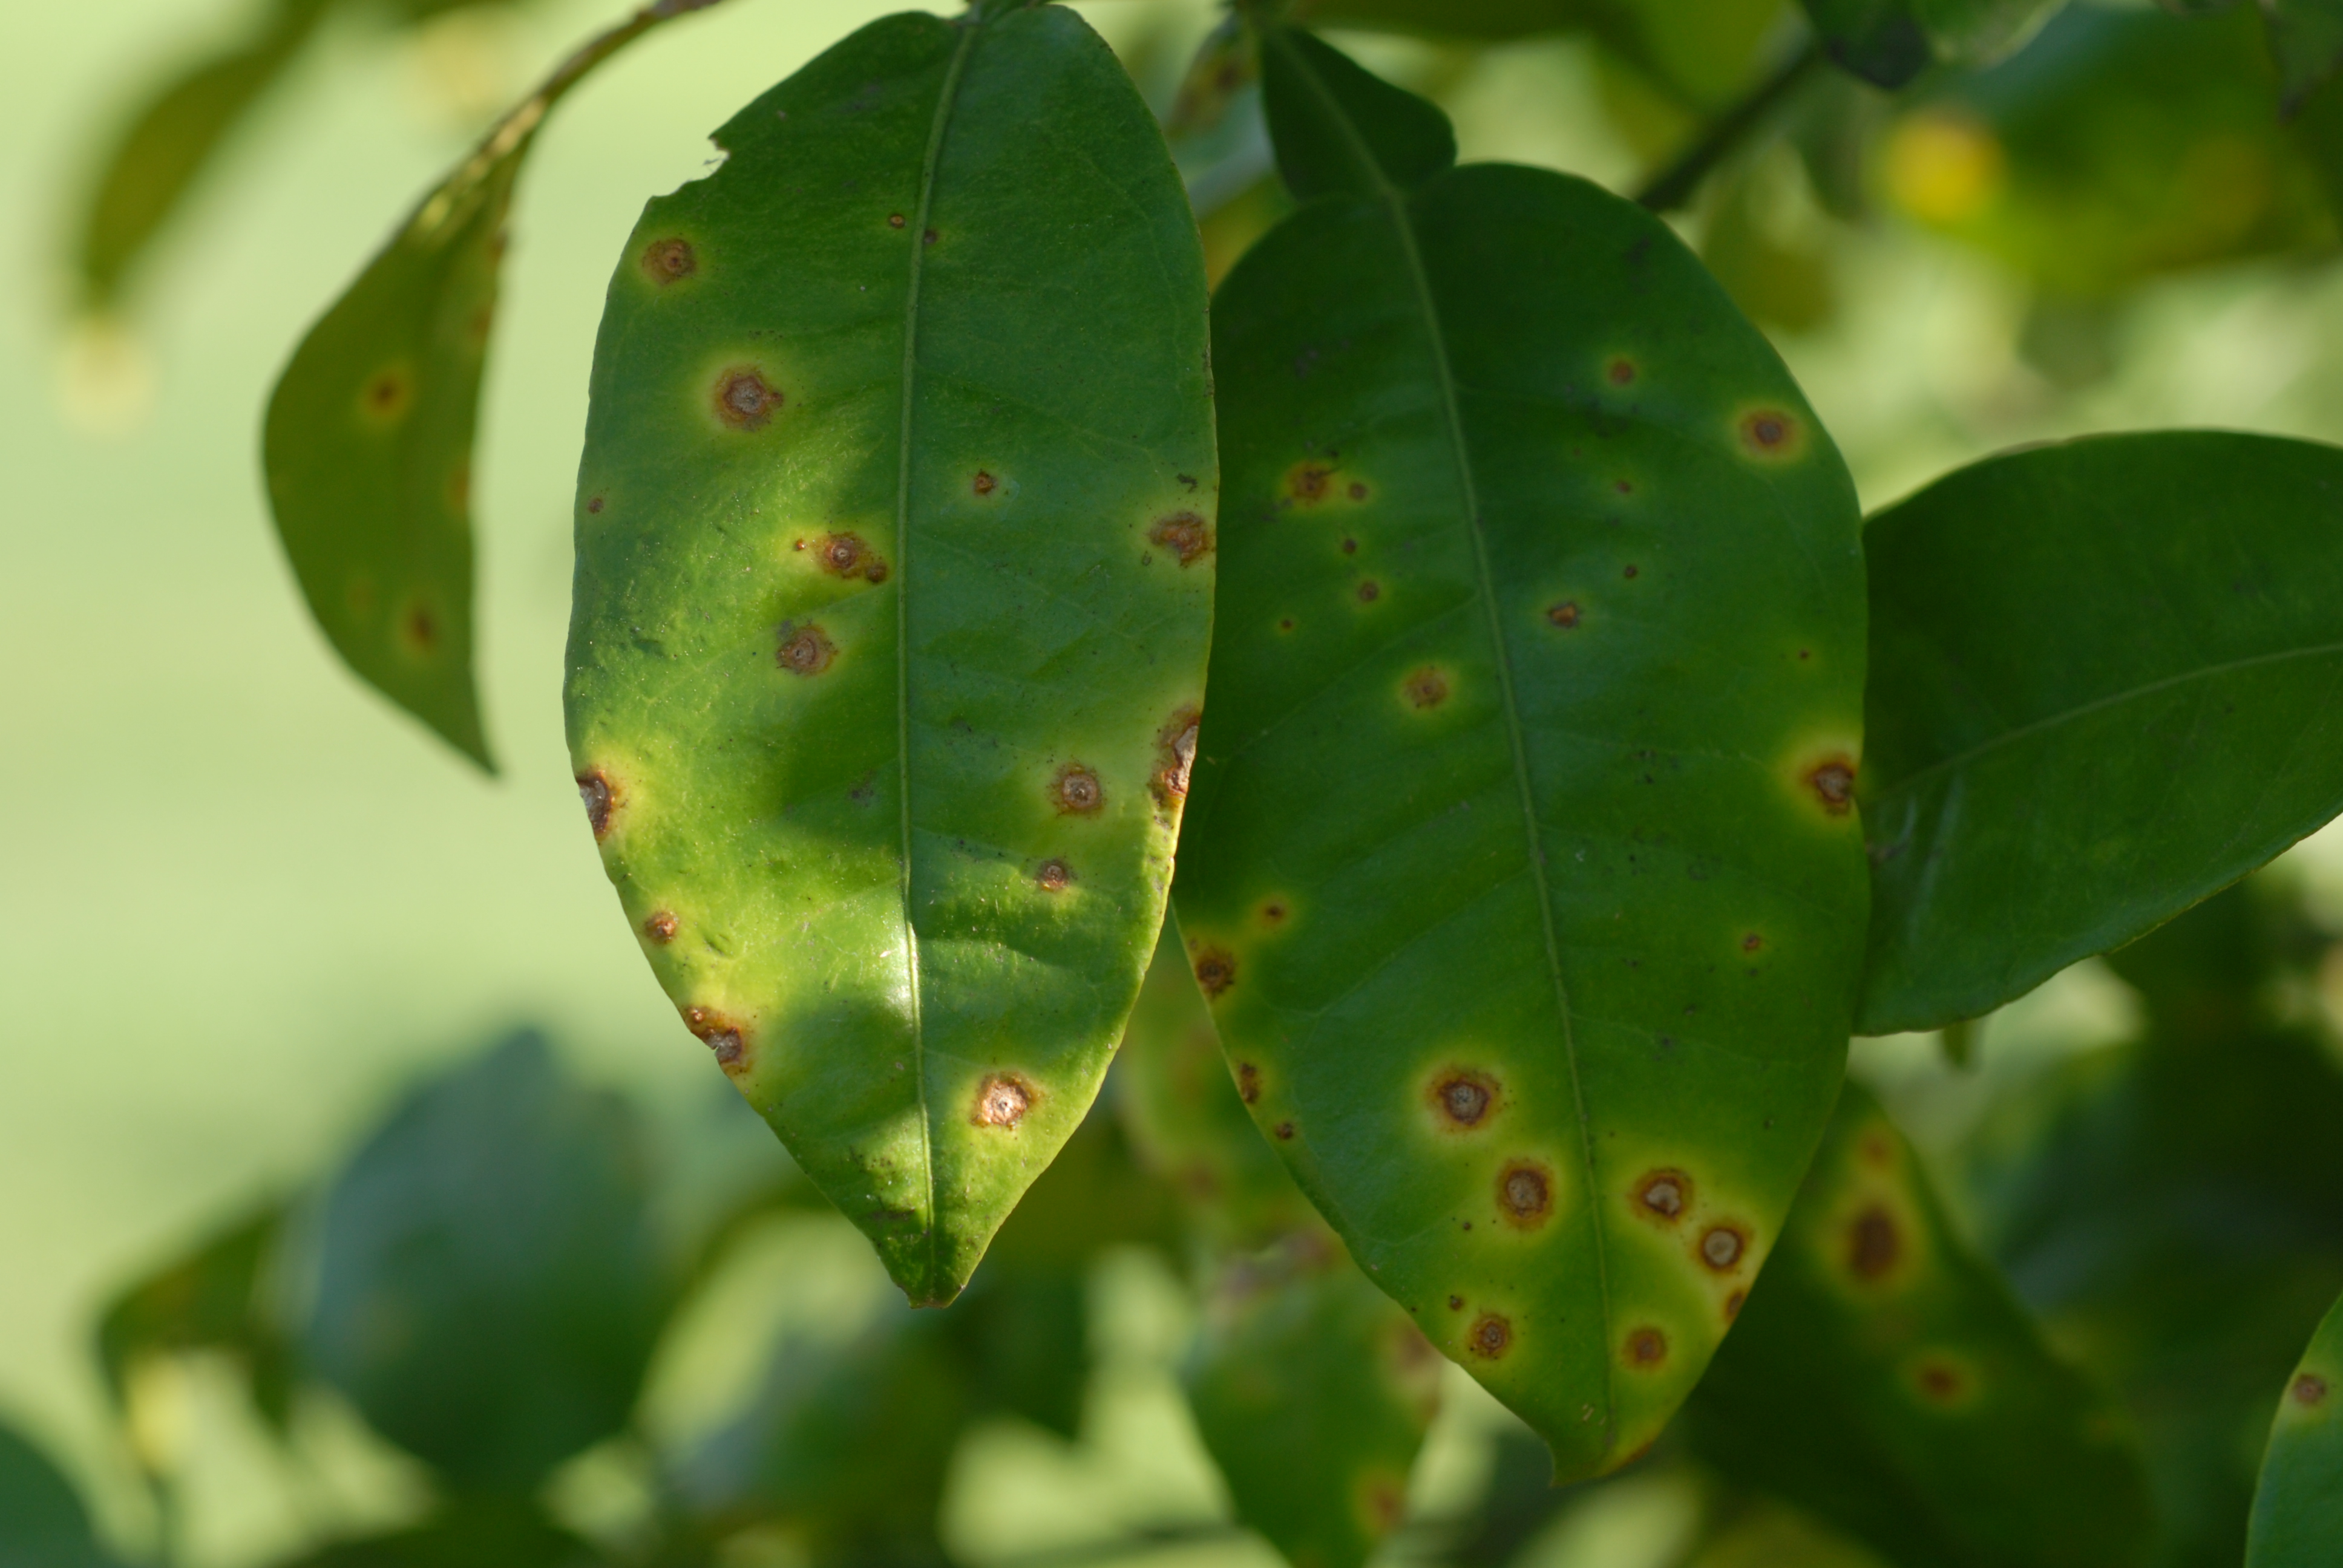unhealthy: (572, 31, 1251, 1251), (1295, 140, 1886, 1444)
